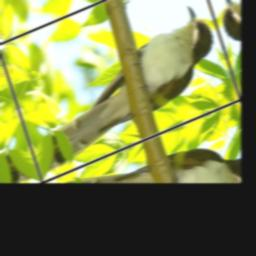Cuckoo: (14, 0, 233, 174)
